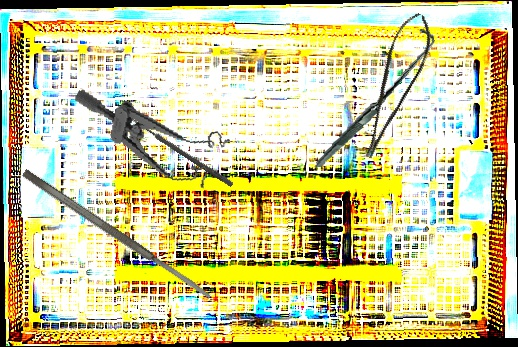Hook Surgical: (299, 27, 449, 168)
Micro Scissor: (339, 7, 445, 162)
Spatula Surgical: (20, 167, 214, 303)
Speculum: (60, 87, 236, 194)
Surgical Spoon: (120, 110, 235, 188)
